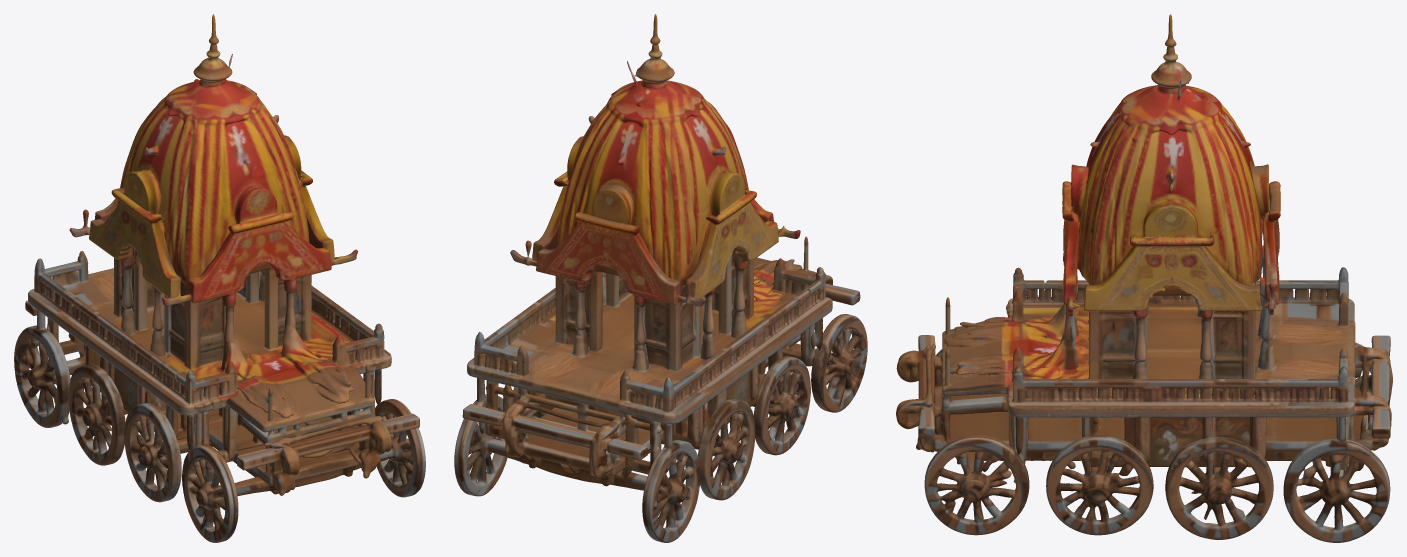
The model's file is ornate temple cart 3d model.glb.
3 views of the same model, side by side, from view 1: azimuth 30°, elevation 25°; view 2: azimuth 150°, elevation 25°; view 3: azimuth 270°, elevation 25° (orthographic). The views are drawn at different scales.
Visible parts, largest first — view 1: tripo_node_ab0d617c-ea86-4b81-bf02-37a35930920f; view 2: tripo_node_ab0d617c-ea86-4b81-bf02-37a35930920f; view 3: tripo_node_ab0d617c-ea86-4b81-bf02-37a35930920f.
Boxes of the visible parts, bbox=[...] form: tripo_node_ab0d617c-ea86-4b81-bf02-37a35930920f: bbox=[14, 14, 425, 542]; tripo_node_ab0d617c-ea86-4b81-bf02-37a35930920f: bbox=[454, 14, 867, 542]; tripo_node_ab0d617c-ea86-4b81-bf02-37a35930920f: bbox=[896, 14, 1392, 542].
Size of the model in its own units: 0.5015 by 1 by 0.9426.
Materials: 1 (1 with a texture image).
